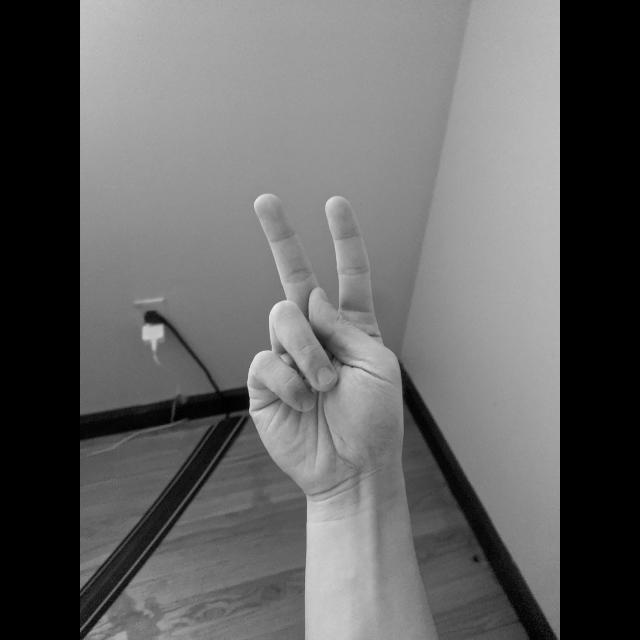K: (243, 189, 411, 497)
